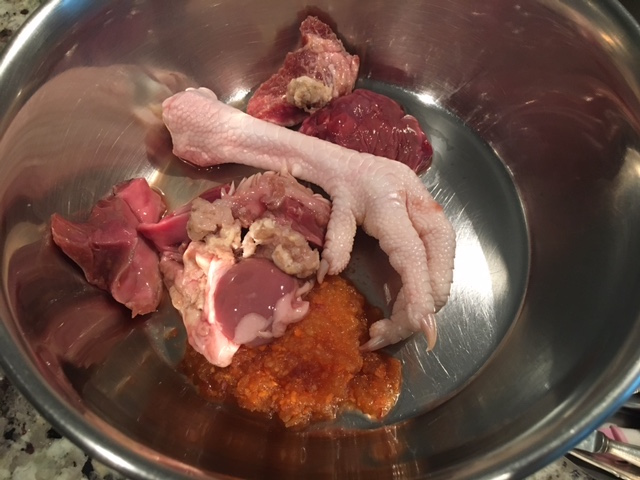ground_beef: (59, 179, 301, 334), (256, 15, 438, 159)
